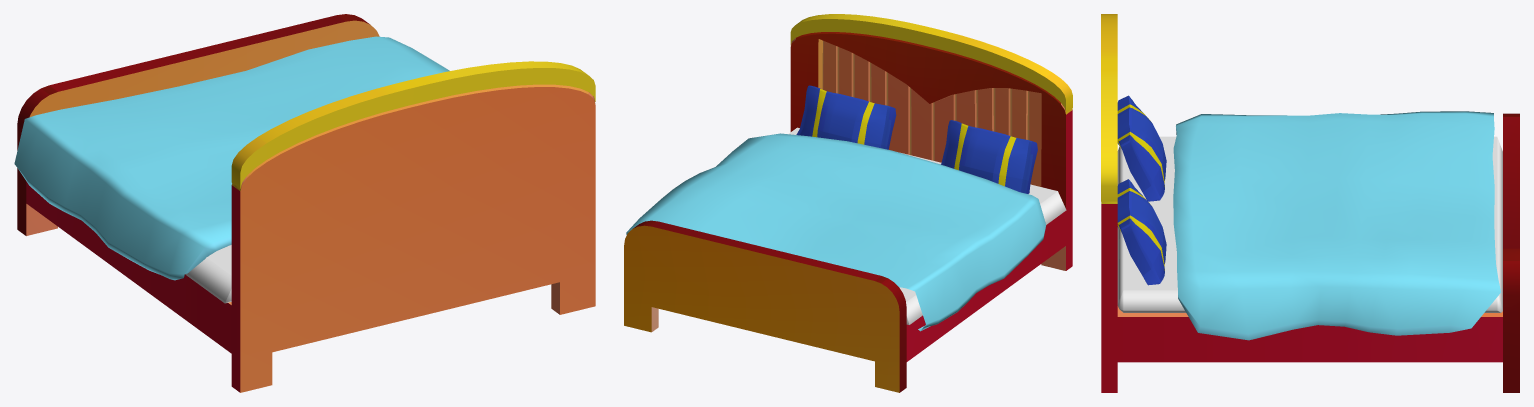
The model's file is bed.fbx.
The picture shows the model from 3 angles, left to right: view 1: azimuth 30°, elevation 25°; view 2: azimuth 150°, elevation 25°; view 3: azimuth 270°, elevation 25°; orthographic projection. The views are drawn at different scales.
Parts seen in each view (by area): view 1: bed2; view 2: bed2; view 3: bed2.
Part boxes in pixels (x1=…): bed2: x1=14, y1=14, x2=595, y2=392; bed2: x1=624, y1=14, x2=1072, y2=392; bed2: x1=1101, y1=14, x2=1519, y2=392.
Bounding box in the file's own units: 12.96 × 8.13 × 12.5.
1 material, 1 textured.
